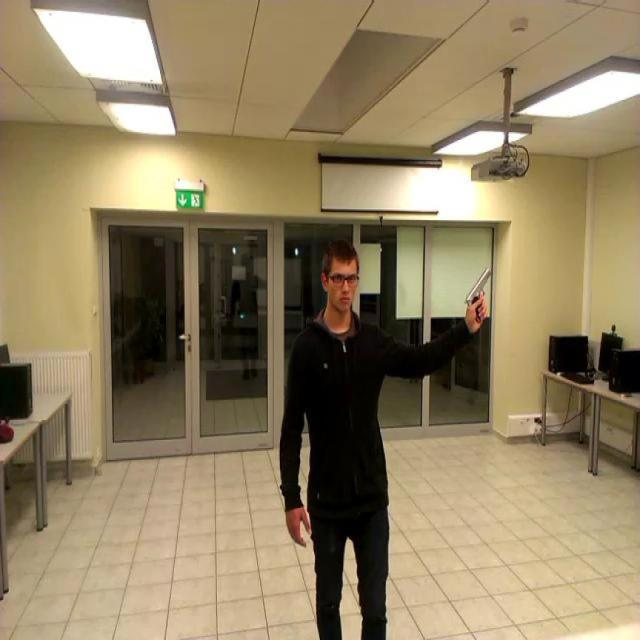pistol: (467, 266, 492, 322)
